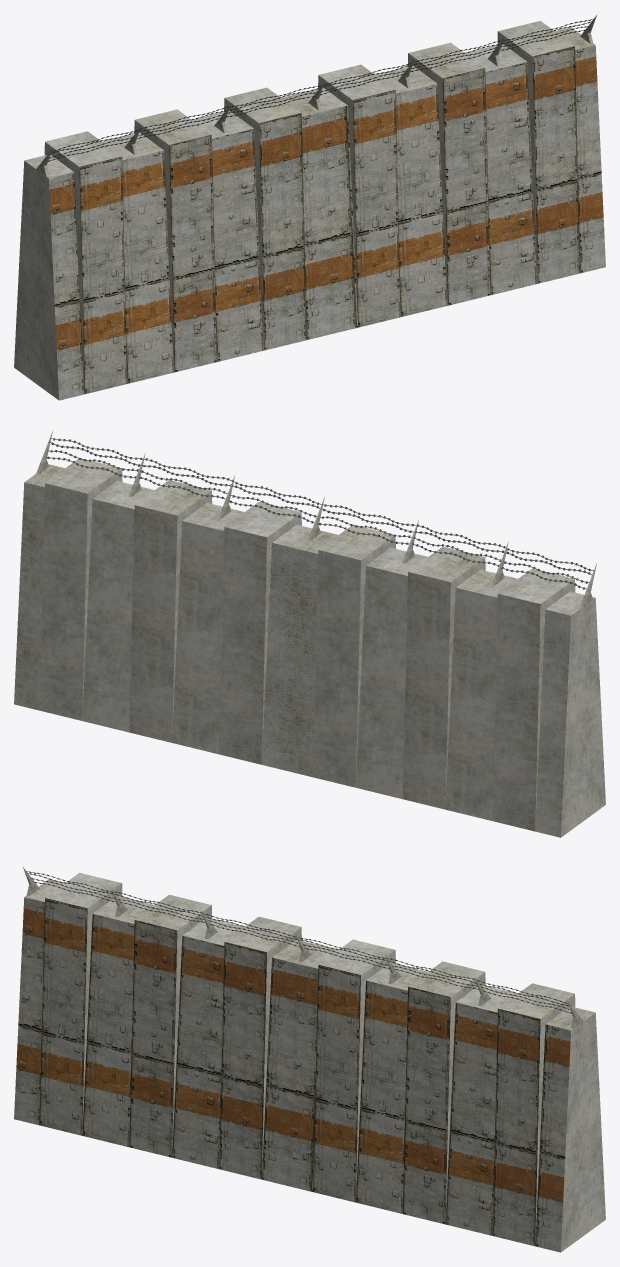
The model's file is mun_all_military_wall_strong_rebl_16_s01_l1.fbx.
3 views of the same model, one above another, from view 1: azimuth 30°, elevation 25°; view 2: azimuth 150°, elevation 25°; view 3: azimuth 330°, elevation 25° (orthographic).
Visible parts, largest first — view 1: mesh_node; view 2: mesh_node; view 3: mesh_node.
Boxes of the visible parts, x1,y1,x2,y2 form: mesh_node: (14,15,605,400); mesh_node: (14,430,605,837); mesh_node: (14,867,605,1252).
Size of the model in its own units: 16 by 6.93 by 2.29.
